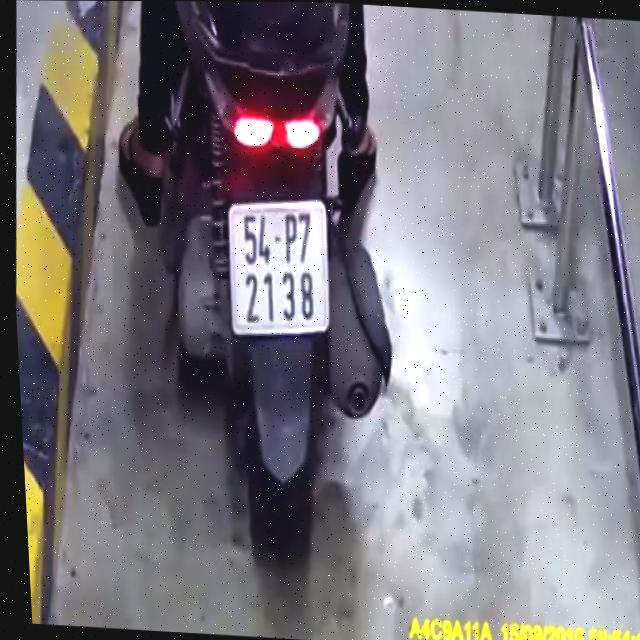motorcycle: (121, 1, 427, 572)
plate: (215, 194, 342, 345)
